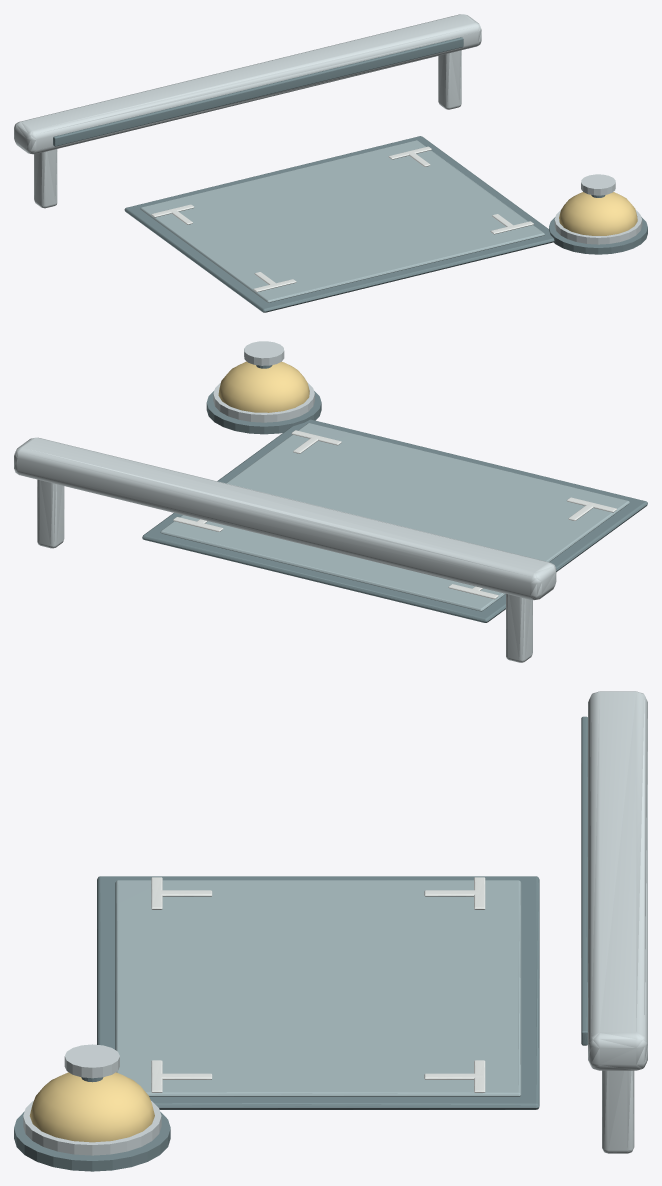
The model's file is ServicePass.fbx.
3 views of the same model, one above another, from view 1: azimuth 30°, elevation 25°; view 2: azimuth 150°, elevation 25°; view 3: azimuth 270°, elevation 25° (orthographic). The views are drawn at different scales.
Parts seen in each view (by area): view 1: ServicePass; view 2: ServicePass; view 3: ServicePass.
Part boxes in pixels (x1=…): ServicePass: x1=14, y1=14, x2=647, y2=312; ServicePass: x1=14, y1=341, x2=647, y2=662; ServicePass: x1=14, y1=691, x2=647, y2=1171.
Bounding box in the file's own units: 1.8 × 0.362 × 1.38.
